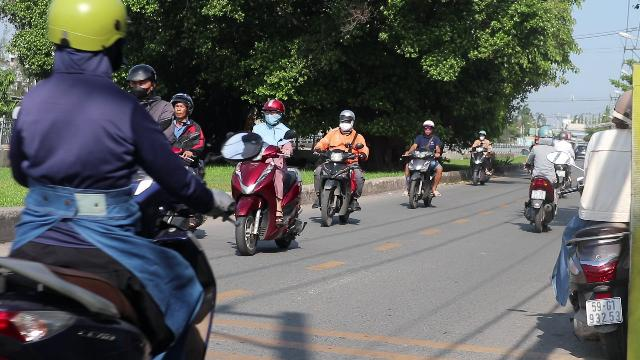helmet: (45, 1, 129, 78), (126, 63, 158, 99), (167, 91, 196, 125), (261, 100, 285, 124), (336, 109, 356, 131), (538, 125, 554, 143), (421, 121, 435, 136)
licenseplate: (586, 298, 622, 324), (531, 190, 545, 199)
motorcyclist: (0, 0, 226, 354), (552, 81, 640, 360), (220, 98, 308, 256), (310, 109, 368, 226), (521, 126, 559, 231), (400, 120, 444, 208)
